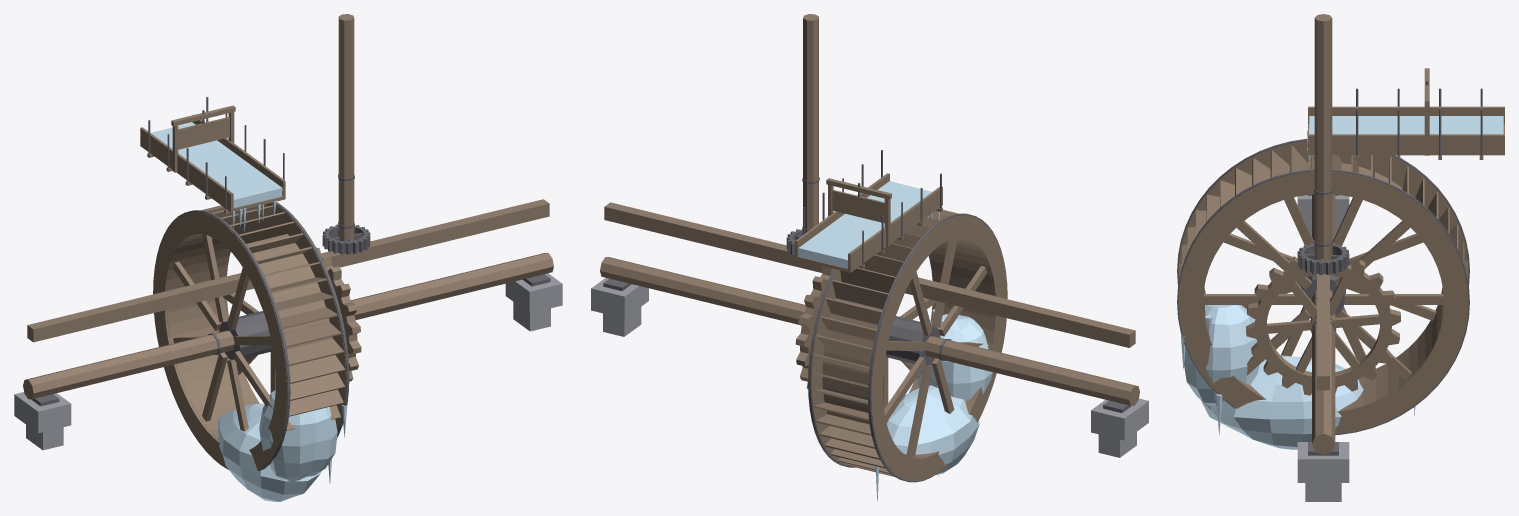
The model's file is PR_Roda_Agua_Grande.fbx.
3 renders of one model, left to right at view 1: azimuth 30°, elevation 25°; view 2: azimuth 150°, elevation 25°; view 3: azimuth 270°, elevation 25°, orthographic. The views are drawn at different scales.
Visible parts, largest first — view 1: PR_Roda_Agua_Grande; view 2: PR_Roda_Agua_Grande; view 3: PR_Roda_Agua_Grande.
Part boxes in pixels (x1=…): PR_Roda_Agua_Grande: x1=14, y1=14, x2=562, y2=501; PR_Roda_Agua_Grande: x1=591, y1=14, x2=1148, y2=501; PR_Roda_Agua_Grande: x1=1177, y1=14, x2=1504, y2=501.
Bounding box in the file's own units: 25.34 × 20.24 × 12.65.
